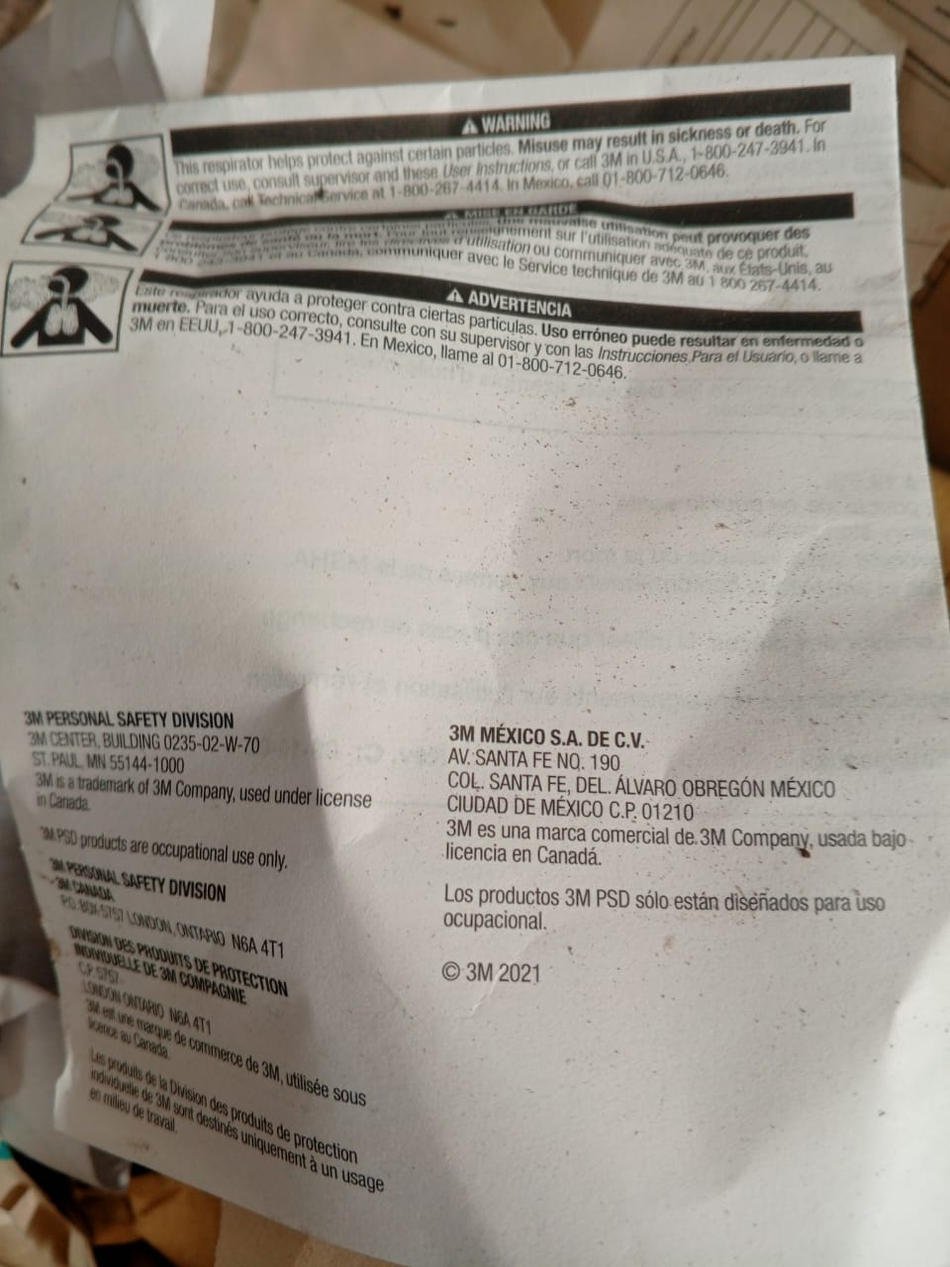Papel: (7, 53, 950, 1267)
